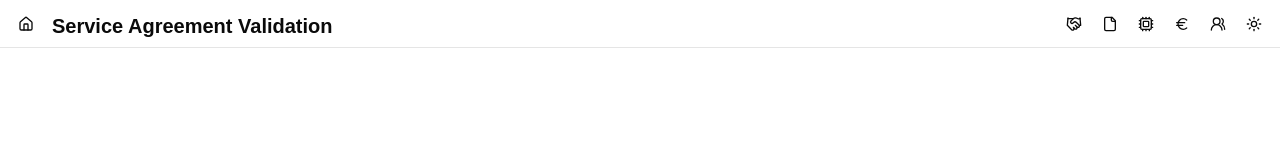
Header › should open the Agreements menu on click
Click the button named "Agreements". click: (1074, 24)
box: top-left (1056, 6), bottom-right (1092, 42)
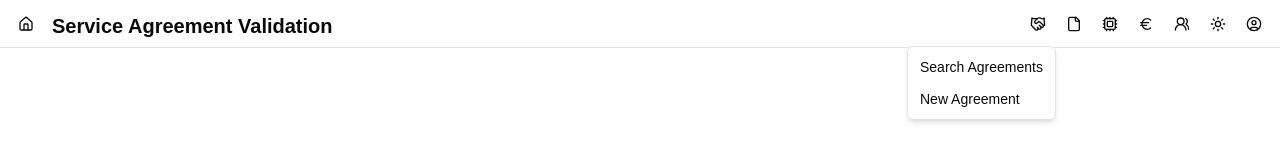
expect the menu item "Search Agreements" is shown: met, box top-left (920, 59), bottom-right (1043, 75)
expect the menu item "New Agreement" is shown: met, box top-left (920, 91), bottom-right (1020, 107)
